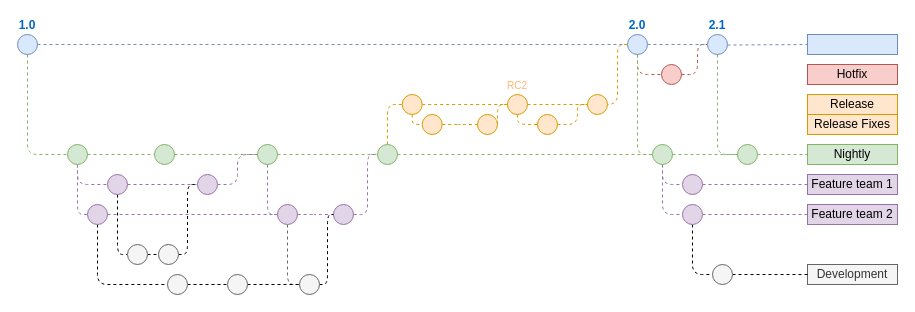
This 915x312 diagram has some shape labels left out. The shapes that lost their labels are listed below. From the top down, each one's centre as x and y in pixels, then its label:
At point 852,44: "Master".
At point 411,104: "RC1".
At point 597,104: "RC3".
